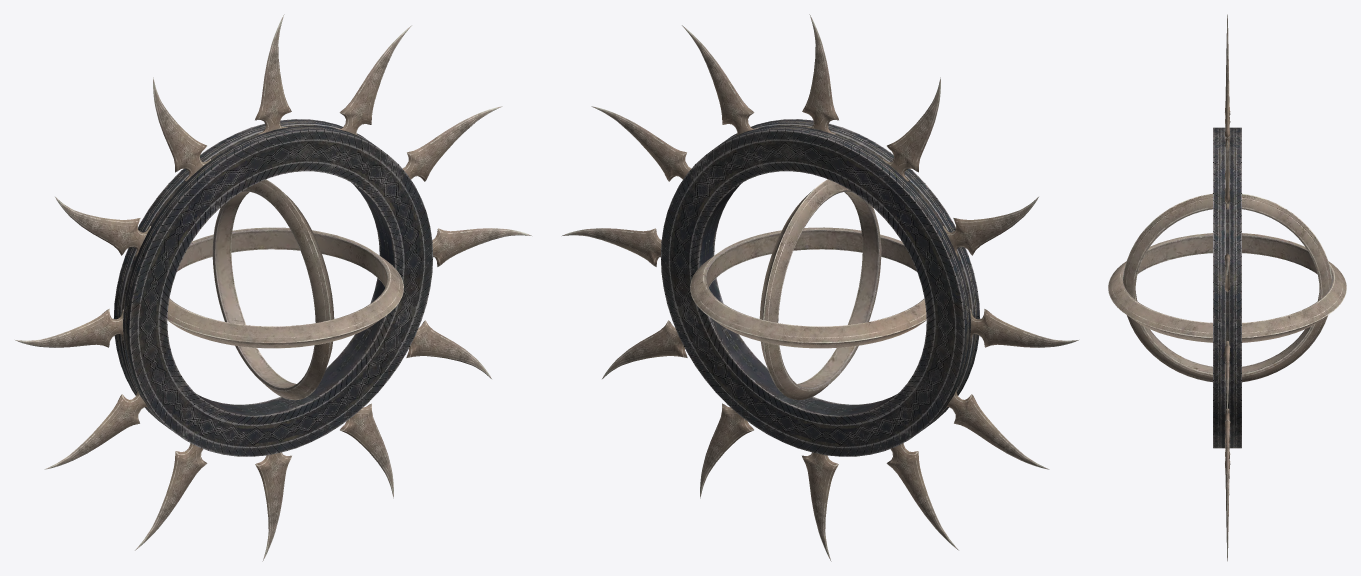
The model's file is pet-1192.glb.
3 renders of one model, left to right at view 1: azimuth 30°, elevation 25°; view 2: azimuth 150°, elevation 25°; view 3: azimuth 270°, elevation 25°, orthographic. The views are drawn at different scales.
Visible parts, largest first — view 1: VEH_Rotan_01; view 2: VEH_Rotan_01; view 3: VEH_Rotan_01.
Boxes of the visible parts, <box> form: VEH_Rotan_01: <box>15,14,531,561</box>; VEH_Rotan_01: <box>562,14,1078,561</box>; VEH_Rotan_01: <box>1108,14,1346,561</box>.
Bounding box in the file's own units: 2.06 × 2.06 × 0.896.
Materials: 1 (1 with a texture image).
